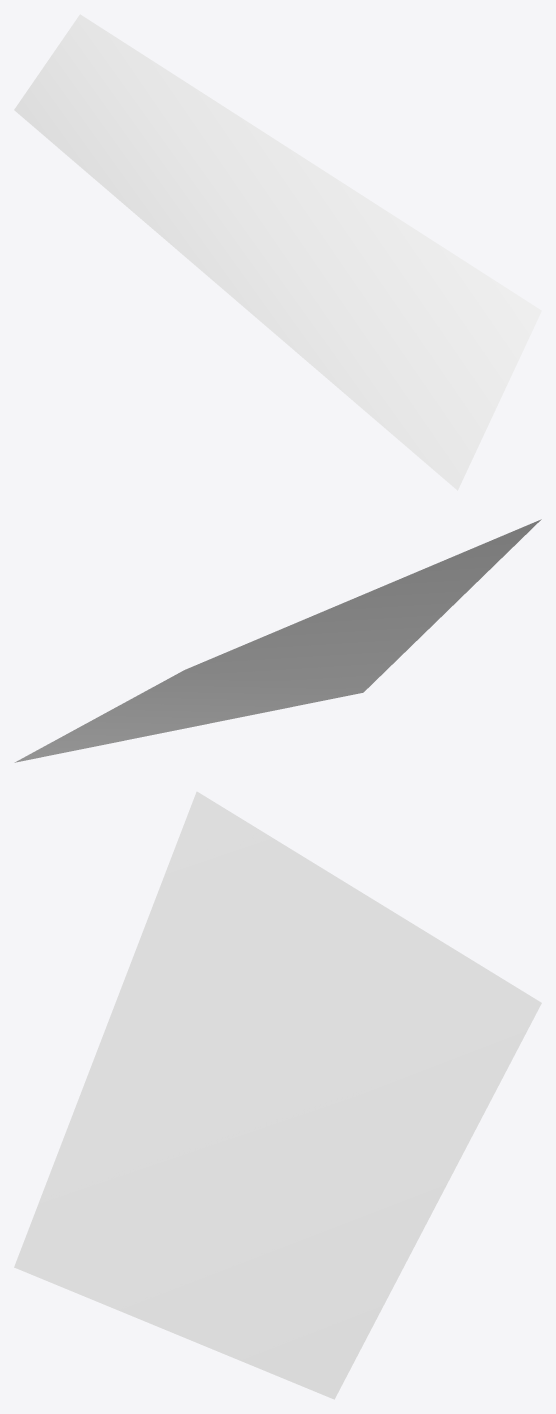
Rendered from web_debris_1.glb.
3 views of the same model, one above another, from view 1: azimuth 30°, elevation 25°; view 2: azimuth 150°, elevation 25°; view 3: azimuth 270°, elevation 25° (orthographic). The views are drawn at different scales.
Parts seen in each view (by area): view 1: Web7.001; view 2: Web7.001; view 3: Web7.001.
Part boxes in pixels (x1,y1,x2,y2): Web7.001: (14, 14, 541, 490); Web7.001: (14, 519, 541, 762); Web7.001: (14, 791, 541, 1399).
Bounding box in the file's own units: 0.9749 × 0.6244 × 0.8485.
1 material, 1 textured.
